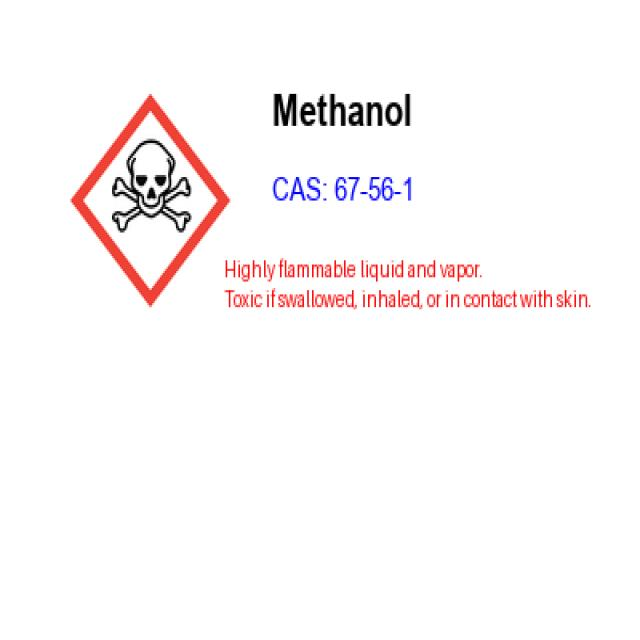cas number: (270, 168, 420, 211)
chemical name: (270, 75, 428, 144)
toxic: (74, 74, 221, 314)
warning text: (219, 249, 602, 341)
